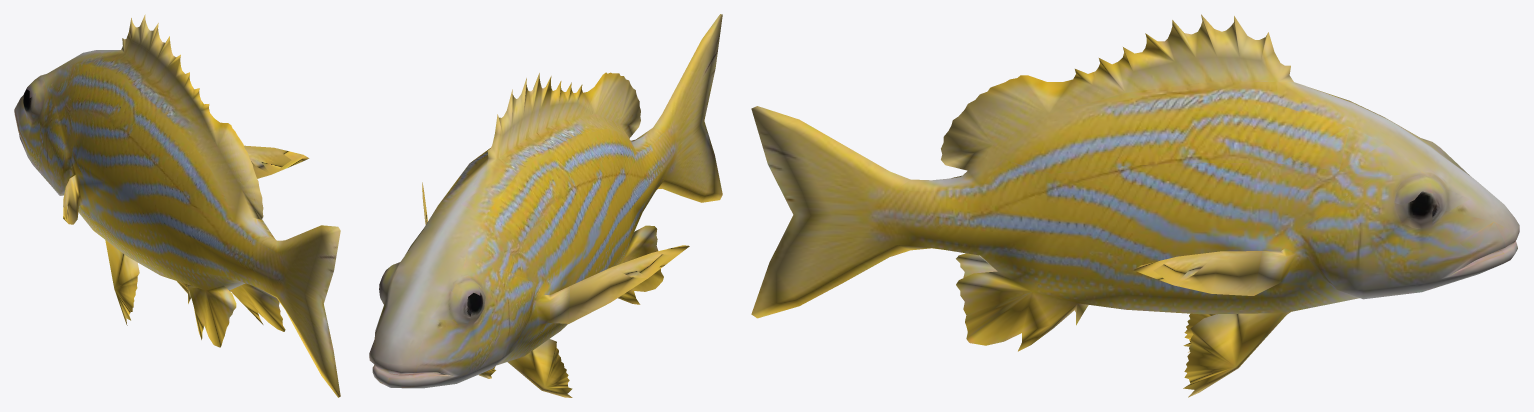
Rendered from franse_knorvis.glb.
The picture shows the model from 3 angles, left to right: view 1: azimuth 30°, elevation 25°; view 2: azimuth 150°, elevation 25°; view 3: azimuth 270°, elevation 25°; orthographic projection. The views are drawn at different scales.
Visible parts, largest first — view 1: tripo_node_456a6d17-b7a1-4015-b81f-919ee46e553c; view 2: tripo_node_456a6d17-b7a1-4015-b81f-919ee46e553c; view 3: tripo_node_456a6d17-b7a1-4015-b81f-919ee46e553c.
Part boxes in pixels (box(x1,y1,x2,y2)): tripo_node_456a6d17-b7a1-4015-b81f-919ee46e553c: box(14, 14, 340, 397); tripo_node_456a6d17-b7a1-4015-b81f-919ee46e553c: box(369, 14, 722, 397); tripo_node_456a6d17-b7a1-4015-b81f-919ee46e553c: box(751, 14, 1519, 397).
Size of the model in its own units: 0.266 by 0.3 by 0.5785.
Materials: 1 (1 with a texture image).
